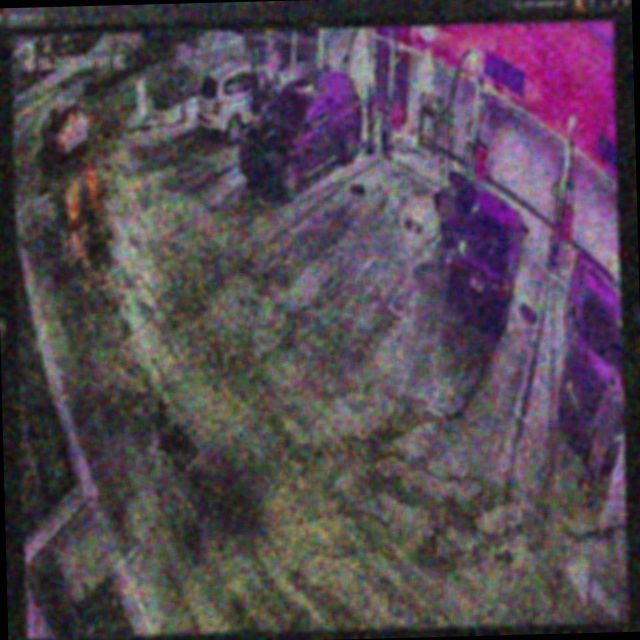Car: (237, 73, 365, 201), (449, 166, 530, 334)
